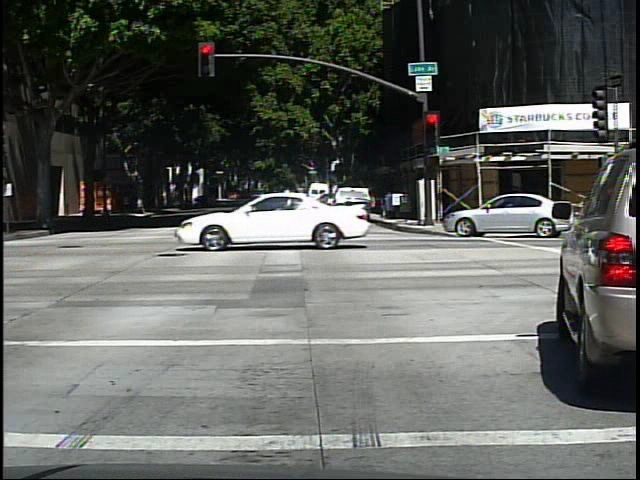person: (84, 186, 100, 220)
